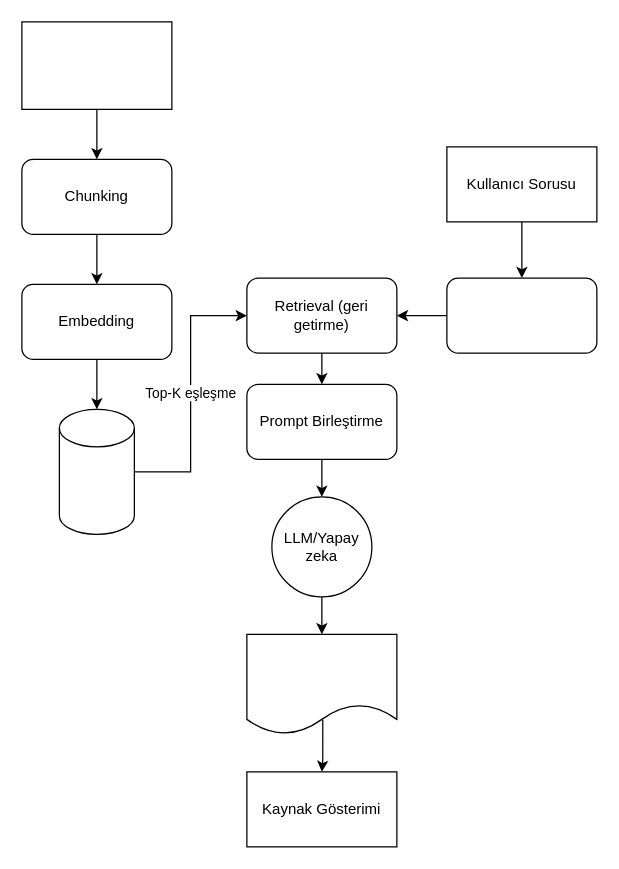
Some shapes in this 619 by 869 pixel diagram are drawn without their labels. The box of each missing label's shape, as (x1, y1, x2, y2) in pixels:
Cevap (Generation): (246, 633, 397, 734)
Döküman Yükleme: (21, 21, 172, 109)
Soru embedding: (446, 277, 597, 353)
Vector Store: (58, 408, 134, 534)
